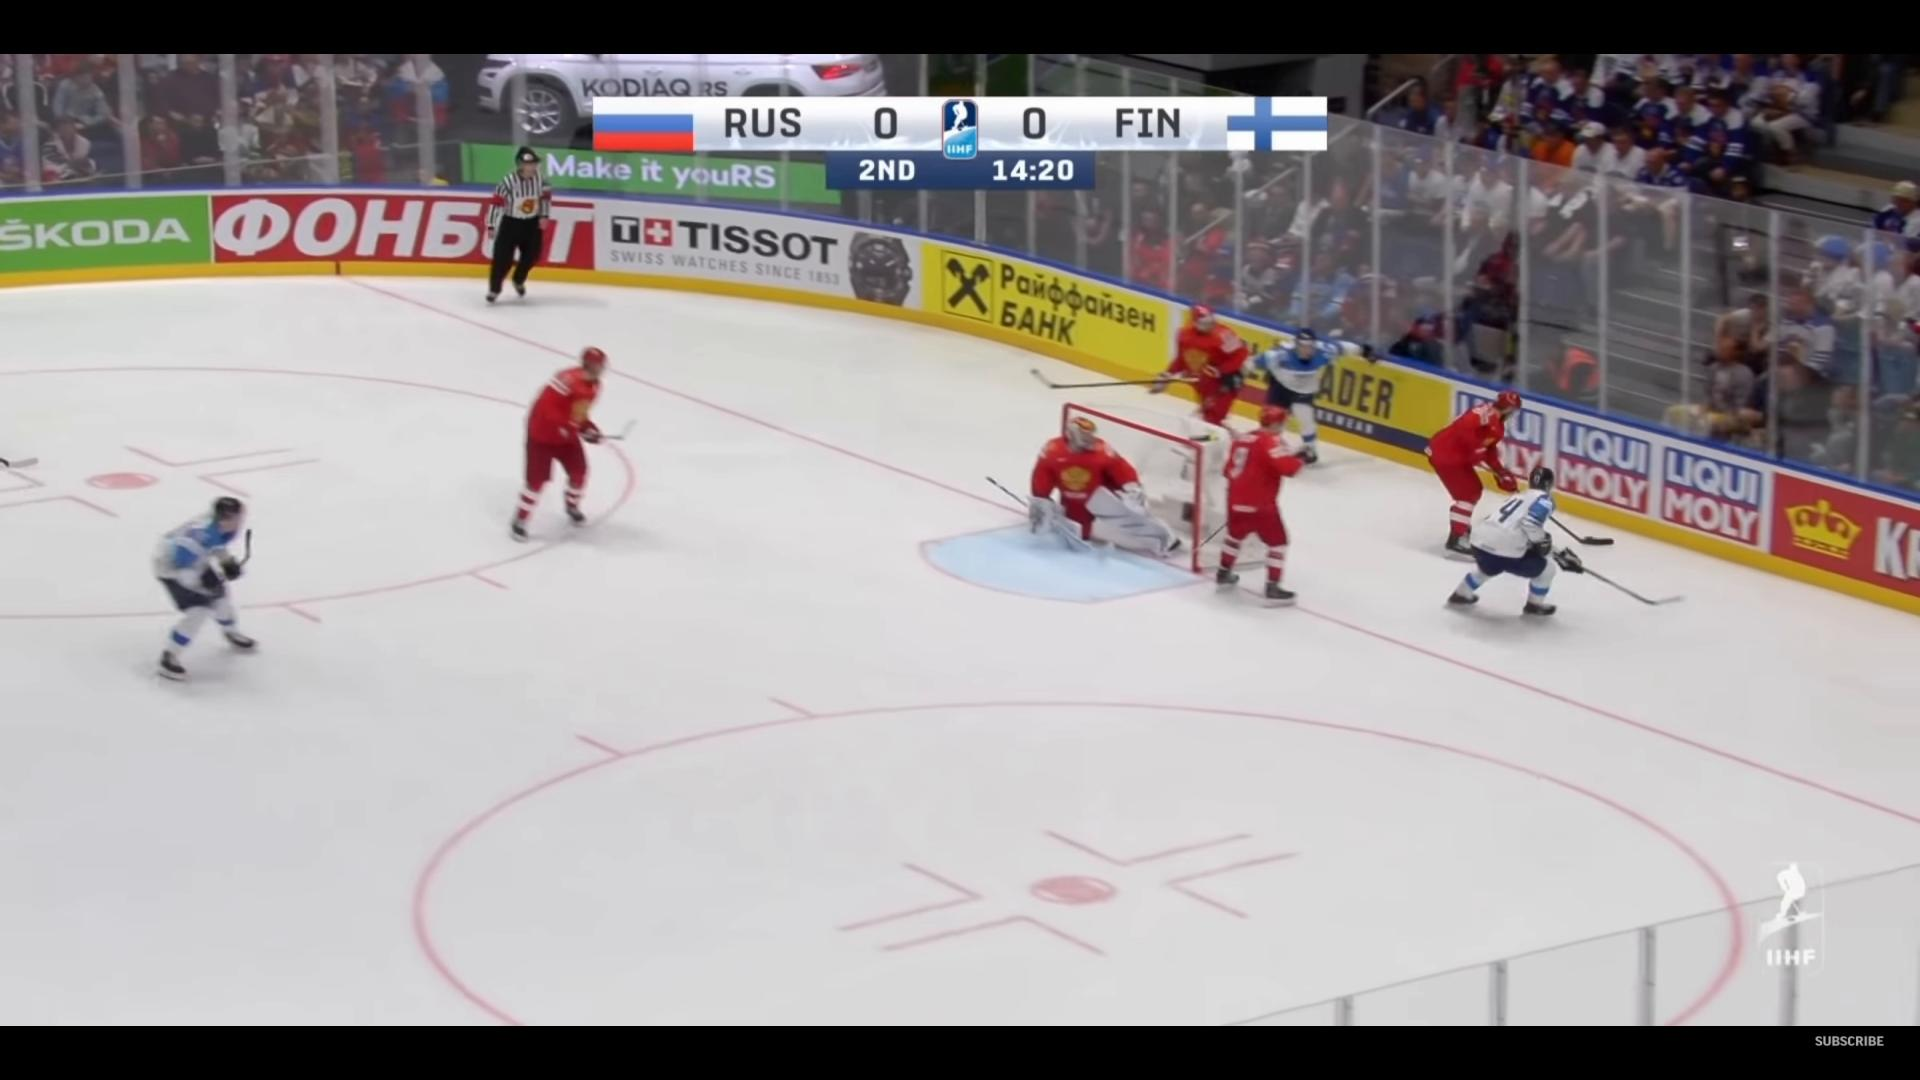puck: (1582, 536, 1592, 540)
